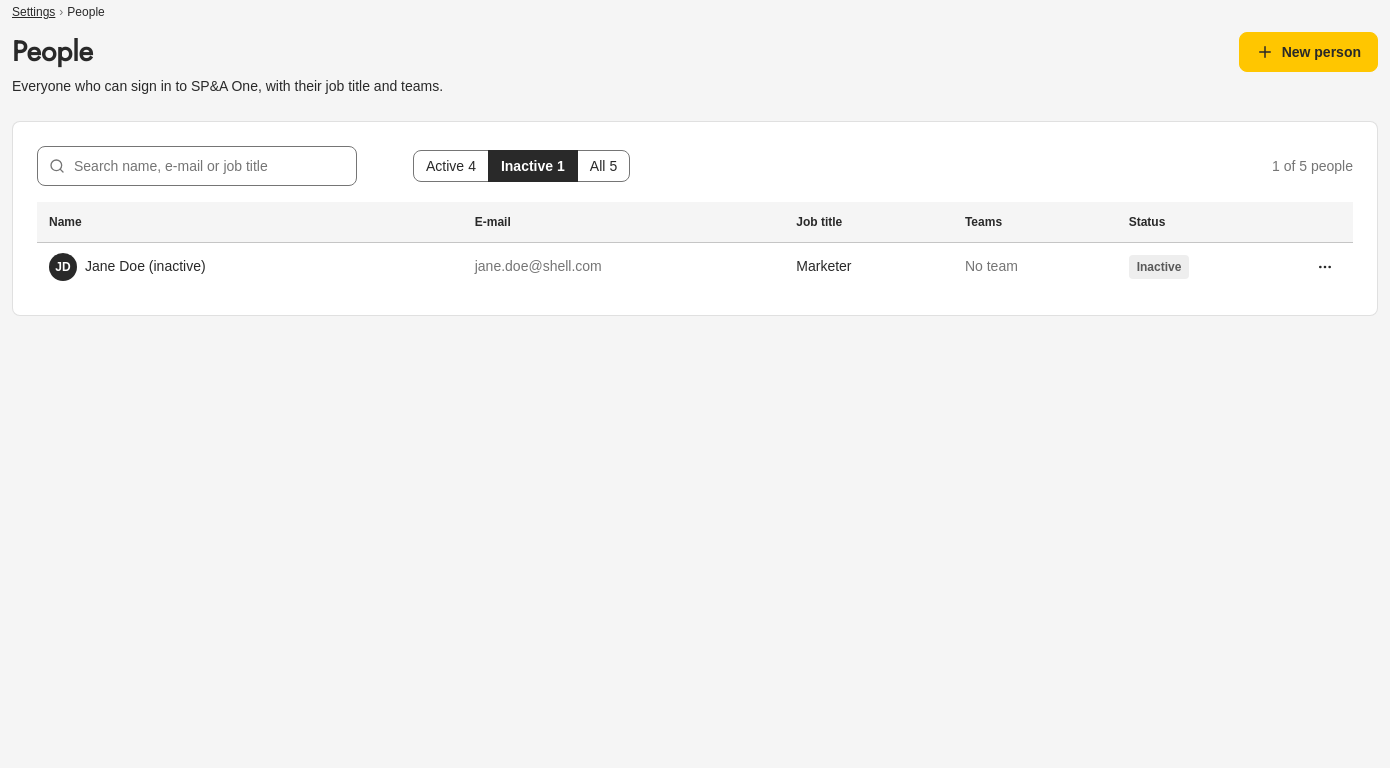
it: PeoplePage (feature 003, US1): Deactivate and Reactivate › says why a status change was refused
The image size is (1390, 768).
Click the button named "Actions for Jane Doe": (1325, 266) [1309, 250, 1341, 282]
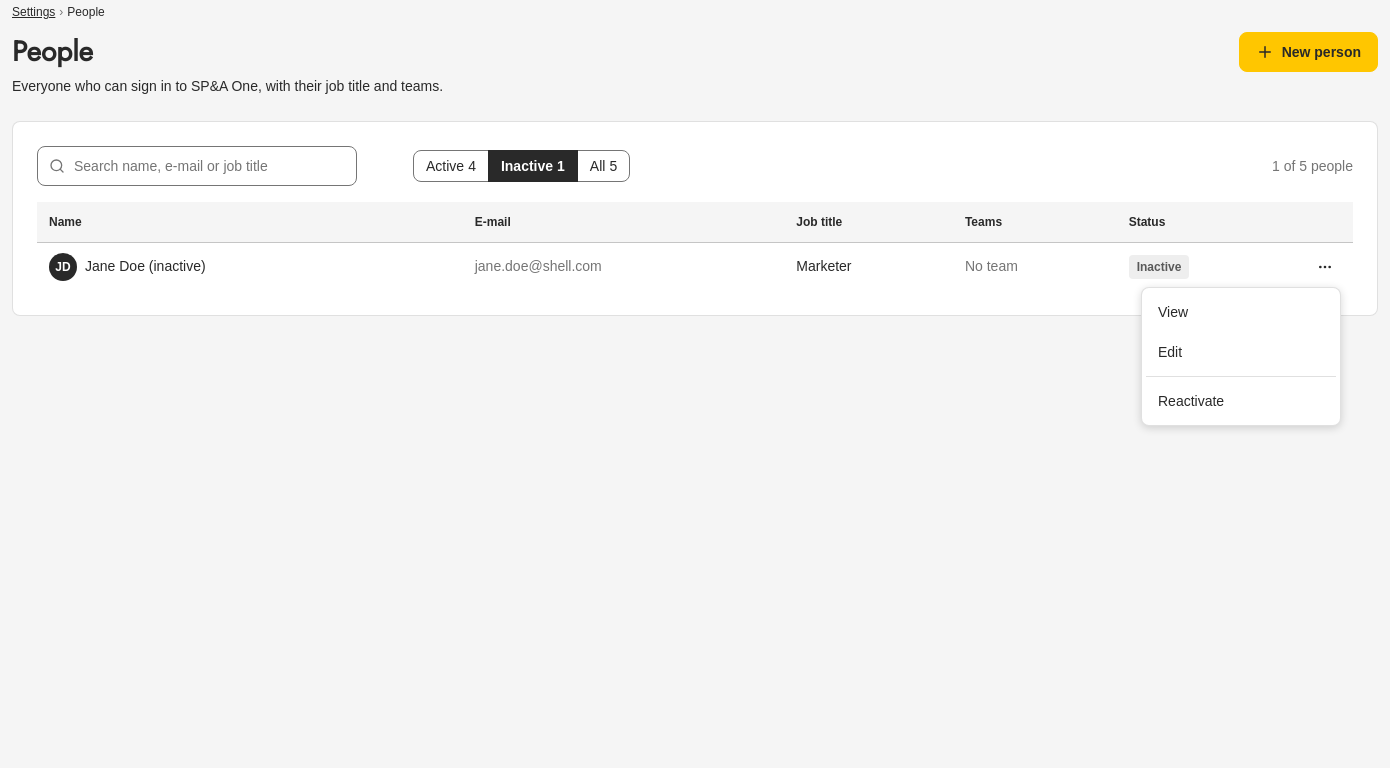
Click the menu item "Reactivate": (1191, 401) [1158, 393, 1224, 409]
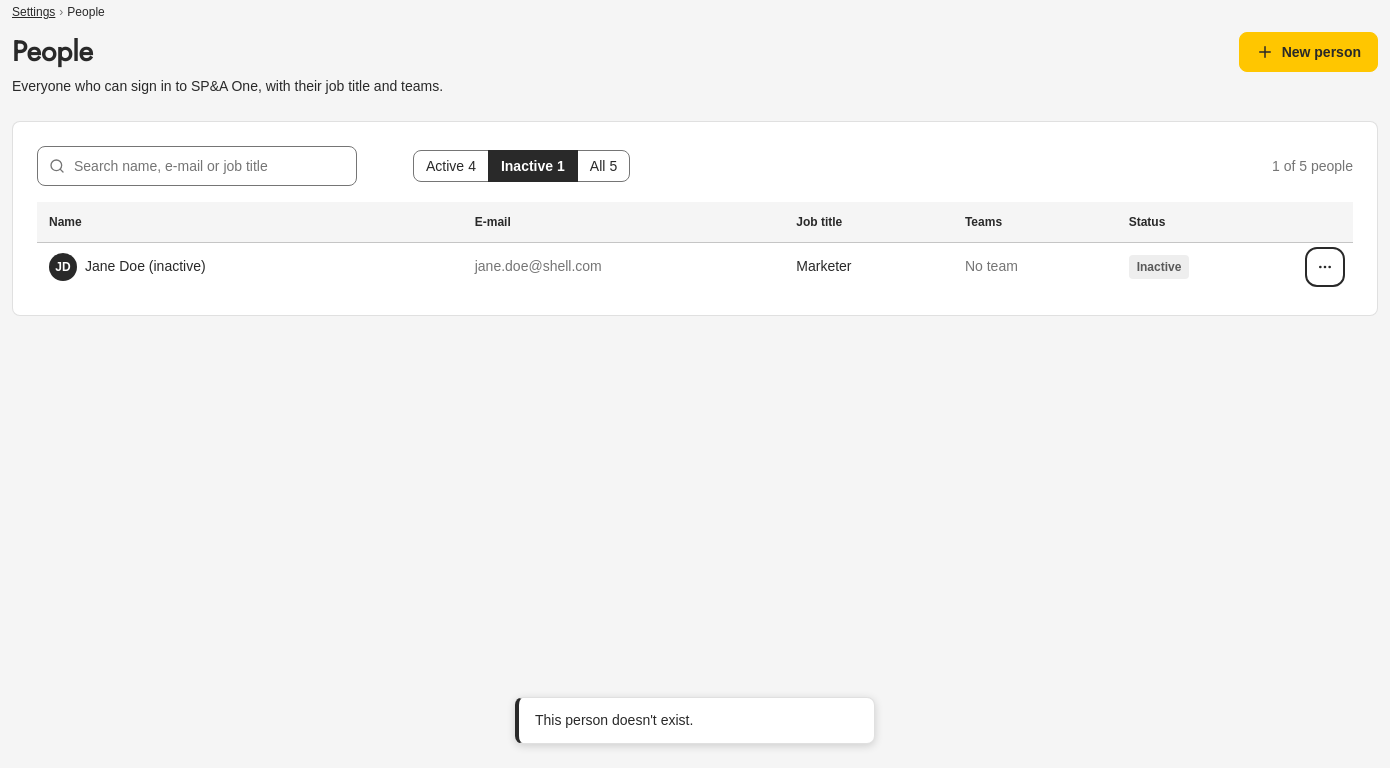
Check: the text "This person doesn't exist." is shown, box [535, 712, 693, 728]
